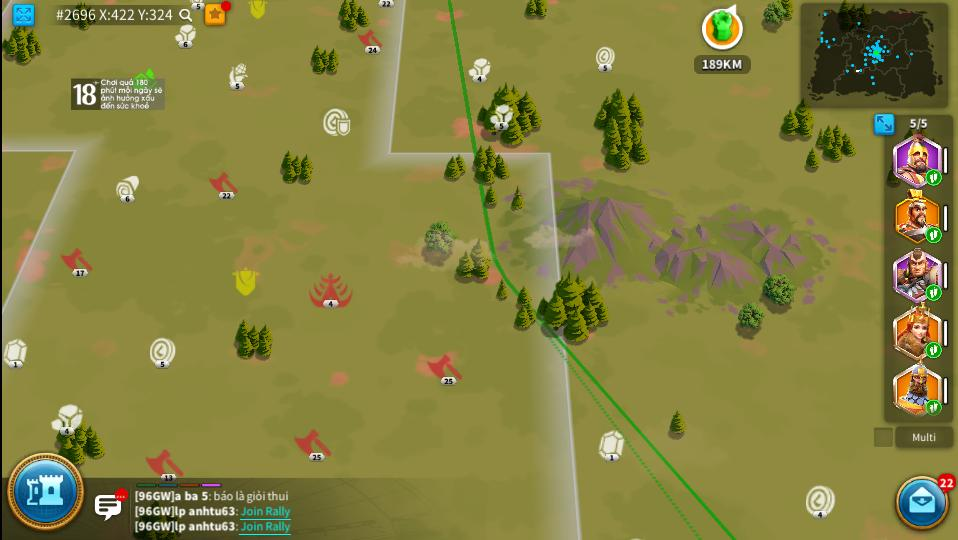gem-z-out: (597, 430, 627, 463), (5, 339, 28, 369)
march_marching: (925, 228, 942, 242), (926, 170, 940, 185), (927, 400, 941, 415), (926, 285, 940, 299), (928, 343, 940, 357)
